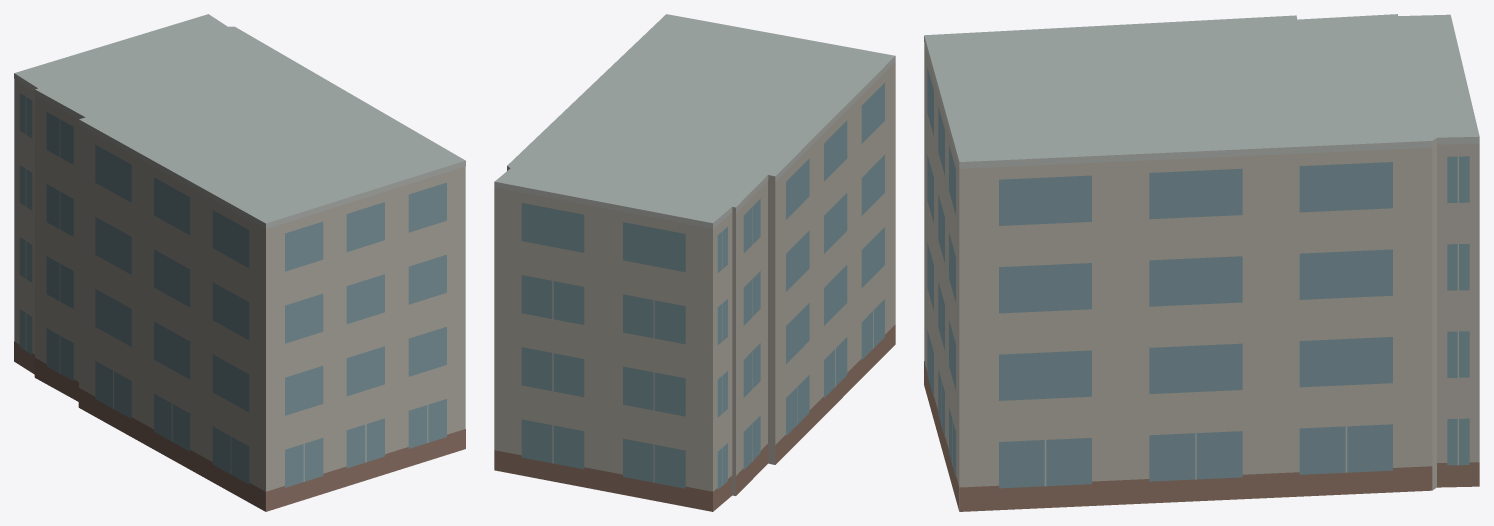
File: survey-upis-32924426.glb
The picture shows the model from 3 angles, left to right: view 1: azimuth 30°, elevation 25°; view 2: azimuth 150°, elevation 25°; view 3: azimuth 270°, elevation 25°; orthographic projection. The views are drawn at different scales.
Parts seen in each view (by area): view 1: survey-upis-32924426.tmp; view 2: survey-upis-32924426.tmp; view 3: survey-upis-32924426.tmp.
Part boxes in pixels (x1,y1,x2,y2): survey-upis-32924426.tmp: (14, 14, 465, 511); survey-upis-32924426.tmp: (494, 14, 895, 511); survey-upis-32924426.tmp: (924, 14, 1479, 511).
Bounding box in the file's own units: 11.36 × 12.5 × 18.
